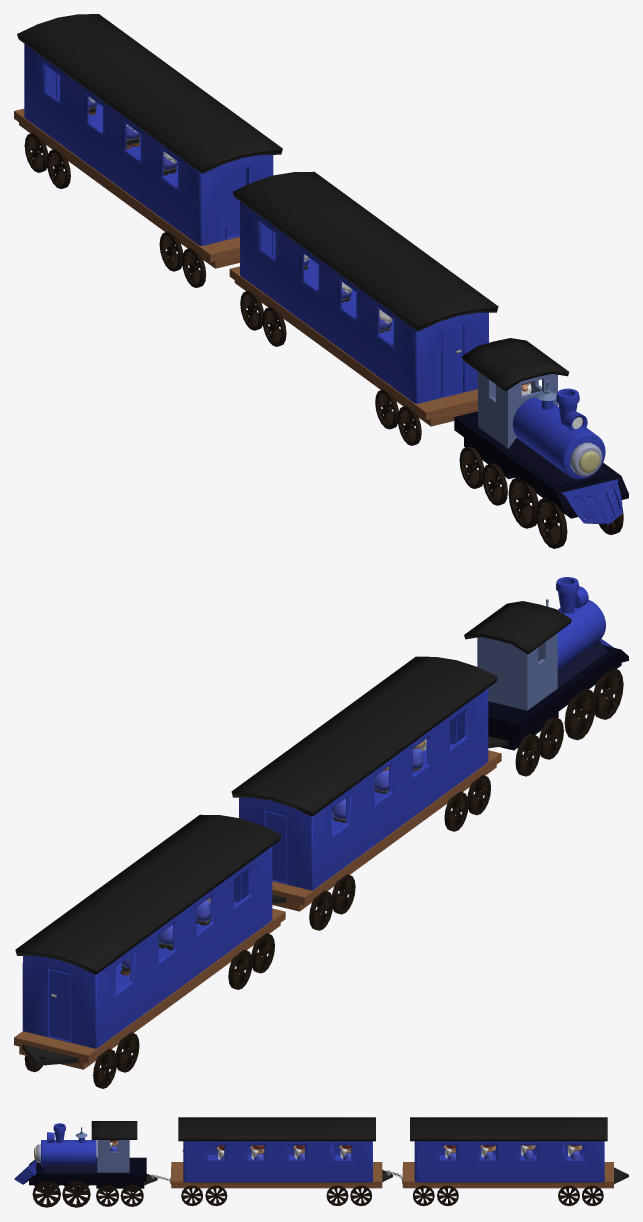
File: tren_con_gnomos.fbx
The picture shows the model from 3 angles, top to bottom: view 1: azimuth 30°, elevation 25°; view 2: azimuth 150°, elevation 25°; view 3: azimuth 270°, elevation 25°; orthographic projection. The views are drawn at different scales.
Parts seen in each view (by area): view 1: Cube.009, Cube.016, Plane.001, Plane.010, Cube.001, Cube.014, Cylinder, Plane.005, Cube.021, Cube, Cylinder.005, Plane (+11 smaller); view 2: Cube.016, Cube.009, Plane.001, Plane.010, Cube, Cube.001, Cube.021, Plane.005, Cube.014, Cylinder, Cylinder.006, Cylinder.005 (+11 smaller); view 3: Cube.009, Cube.016, Plane.001, Plane.010, Cube.001, Cube.014, Cube.021, Cylinder, Cube, Plane.005, Cylinder.006, Cylinder.005 (+14 smaller).
Boxes of the visible parts, x1,y1,x2,y2 form: Cube.009: (240,201,488,403); Cube.016: (24,44,273,245); Plane.001: (232,171,498,331); Plane.010: (17,14,282,173); Cube.001: (454,411,628,518); Cube.014: (229,266,477,426); Cylinder: (512,397,605,479); Plane.005: (461,338,568,391); Cube.021: (14,108,239,268); Cube: (478,371,557,448); Cylinder.005: (536,497,623,548); Plane: (562,479,622,524); Cube.016: (22,846,272,1048); Cube.009: (239,688,488,890); Plane.001: (231,656,497,816); Plane.010: (15,814,281,974); Cube: (477,633,557,710); Cube.001: (488,645,628,750); Cube.021: (14,908,285,1069); Plane.005: (464,601,571,654); Cube.014: (272,750,501,911); Cylinder: (557,599,605,670); Cylinder.006: (564,688,595,740); Cylinder.005: (593,668,623,719); Cube.009: (183,1141,372,1182); Cube.016: (414,1141,604,1182); Plane.001: (178,1117,375,1141); Plane.010: (410,1117,607,1141); Cube.001: (29,1157,146,1188); Cube.014: (171,1162,382,1188); Cube.021: (402,1162,613,1188); Cylinder: (41,1140,96,1166); Cube: (97,1140,129,1172); Plane.005: (91,1121,137,1139); Cylinder.006: (62,1181,90,1207); Cylinder.005: (32,1181,60,1207).
Size of the model in its own units: 315 by 514 by 3808.
